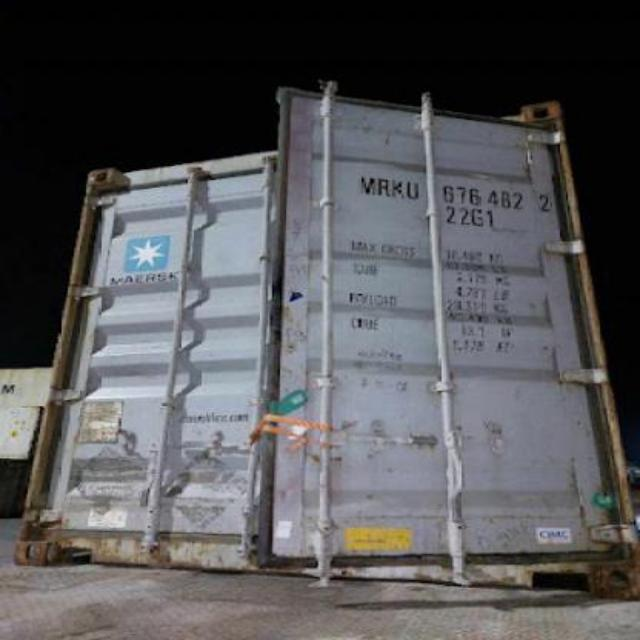2: (514, 190, 526, 212), (540, 194, 552, 212)
4: (486, 186, 499, 208)
6: (468, 186, 482, 207), (442, 185, 456, 203)
7: (456, 184, 469, 208)
8: (501, 189, 514, 207)
K: (390, 176, 406, 198)
M: (358, 174, 378, 198)
R: (376, 174, 392, 198)
U: (408, 177, 420, 200)
